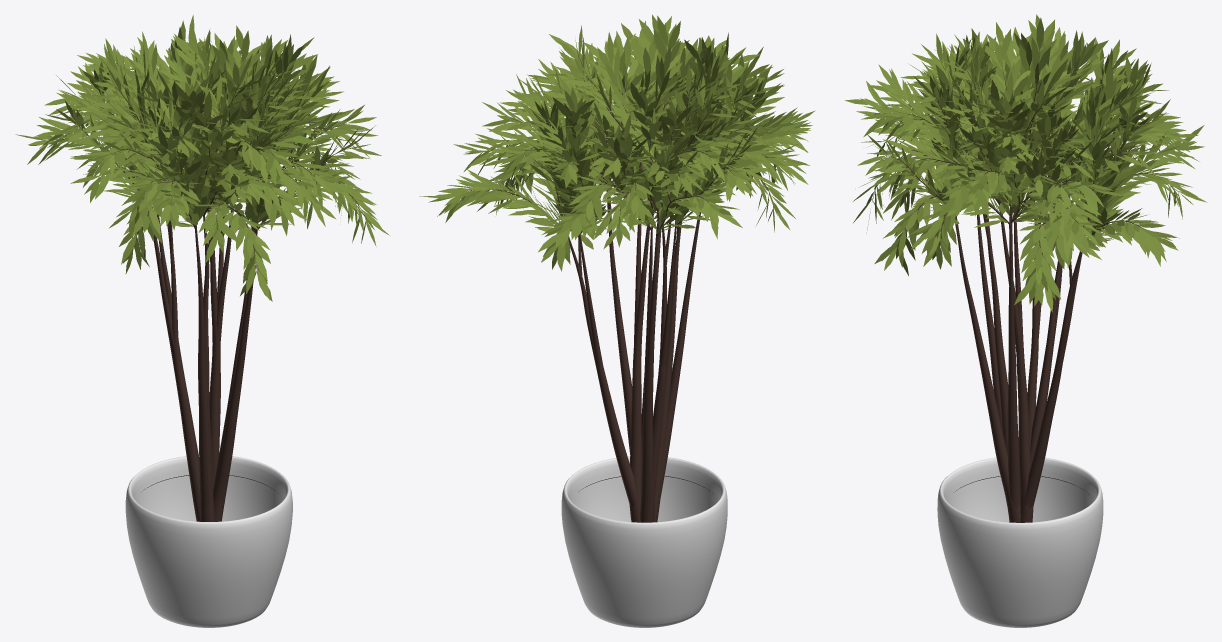
The model's file is tree.fbx.
The picture shows the model from 3 angles, left to right: view 1: azimuth 30°, elevation 25°; view 2: azimuth 150°, elevation 25°; view 3: azimuth 270°, elevation 25°; orthographic projection.
Visible parts, largest first — view 1: leaves, Vert, tree; view 2: leaves, Vert, tree; view 3: leaves, Vert, tree.
Boxes of the visible parts, x1=… form: leaves: x1=15, y1=14, x2=389, y2=301; Vert: x1=125, y1=455, x2=292, y2=627; tree: x1=62, y1=51, x2=366, y2=521; leaves: x1=419, y1=14, x2=815, y2=271; Vert: x1=561, y1=456, x2=727, y2=627; tree: x1=469, y1=50, x2=779, y2=522; leaves: x1=844, y1=14, x2=1207, y2=312; Vert: x1=937, y1=457, x2=1103, y2=627; tree: x1=872, y1=51, x2=1178, y2=522.
Size of the model in its own units: 195 by 342 by 199.
